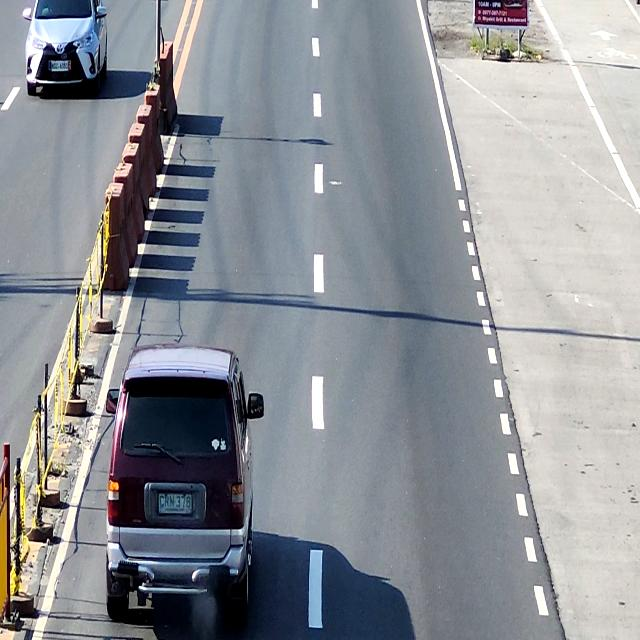Car: (103, 344, 265, 619), (22, 0, 109, 95)
License-Plate: (158, 493, 194, 516), (50, 60, 69, 71)
